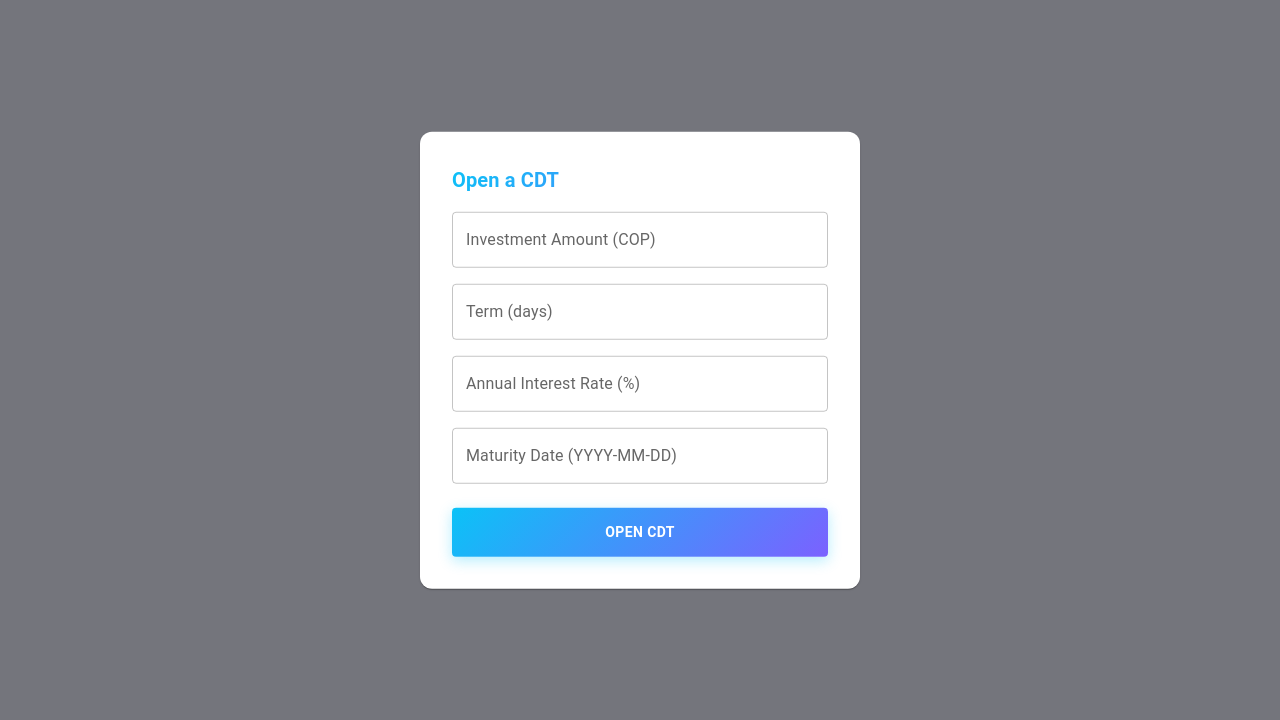
Test case: OpenCdtModal › shows validation errors when form is submitted empty
This screenshot has width=1280, height=720.
Click the button with test id "open-cdt-modal-submit": [640, 532] box [452,508,828,556]
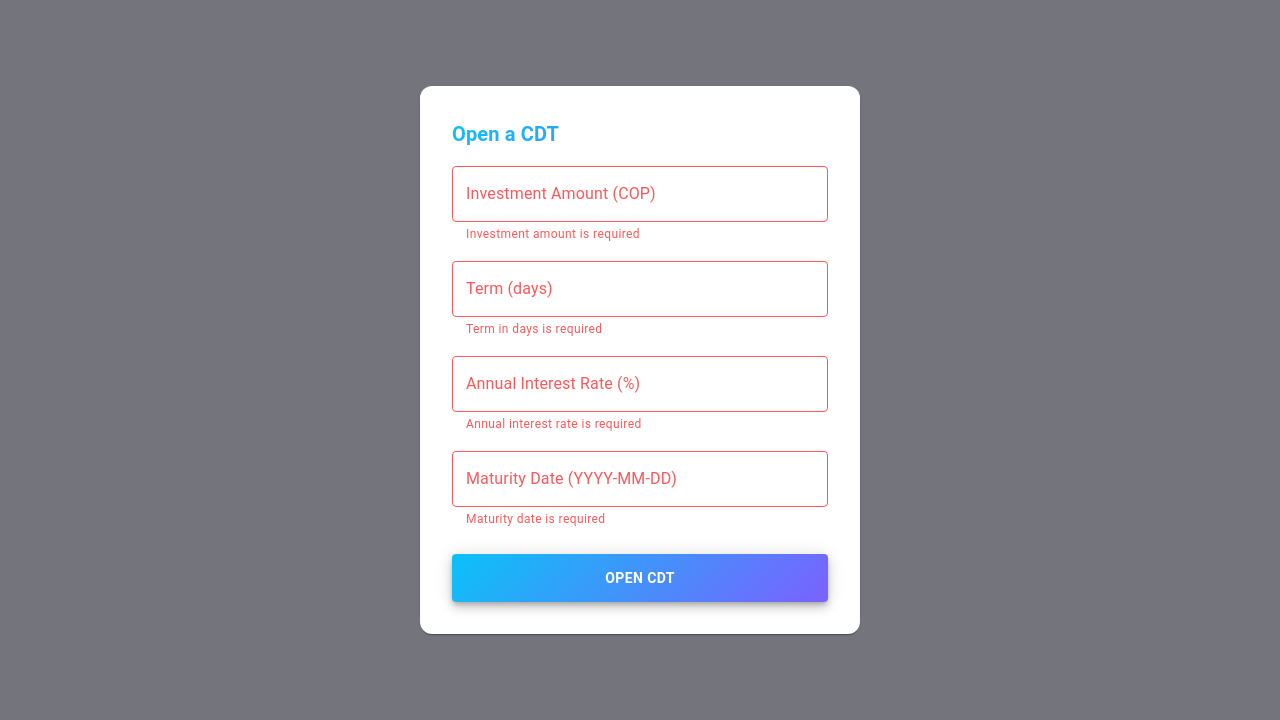
Expected: the text with test id "open-cdt-modal-amount-error" reads "Investment amount is required", [466,227,640,241]
